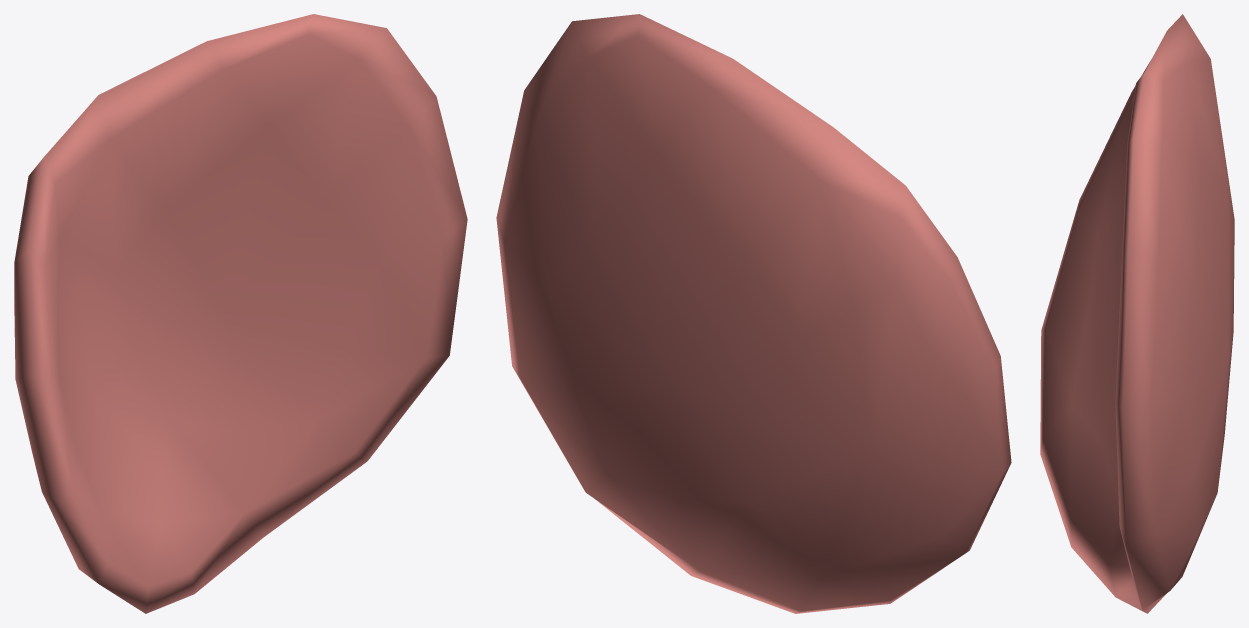
3 views of the same model, side by side, from view 1: azimuth 30°, elevation 25°; view 2: azimuth 150°, elevation 25°; view 3: azimuth 270°, elevation 25° (orthographic). The views are drawn at different scales.
Visible parts, largest first — view 1: ZA_ad5dd8a0d6c695d1; view 2: ZA_ad5dd8a0d6c695d1; view 3: ZA_ad5dd8a0d6c695d1.
Part boxes in pixels (<box>): ZA_ad5dd8a0d6c695d1: <box>14,14,467,613</box>; ZA_ad5dd8a0d6c695d1: <box>496,14,1011,613</box>; ZA_ad5dd8a0d6c695d1: <box>1040,14,1234,613</box>.
Size of the model in its own units: 0.00517 by 0.00582 by 0.00171.
